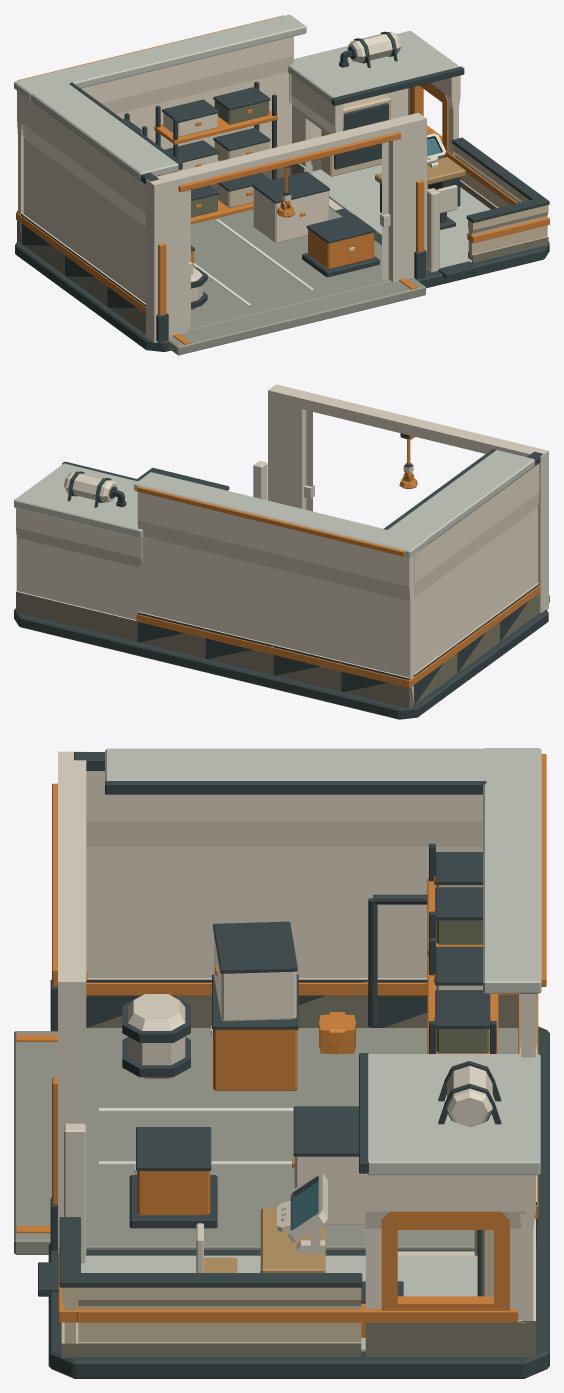
The model's file is freihafen_hall_01.glb.
3 views of the same model, one above another, from view 1: azimuth 30°, elevation 25°; view 2: azimuth 150°, elevation 25°; view 3: azimuth 270°, elevation 25° (orthographic). The views are drawn at different scales.
Visible parts, largest first — view 1: freihafen_hall_01; view 2: freihafen_hall_01; view 3: freihafen_hall_01.
Part boxes in pixels (x1,y1,x2,y2): freihafen_hall_01: (14,14,549,355); freihafen_hall_01: (14,384,549,719); freihafen_hall_01: (14,748,549,1378).
Size of the model in its own units: 10.5 by 4.2 by 6.95.
